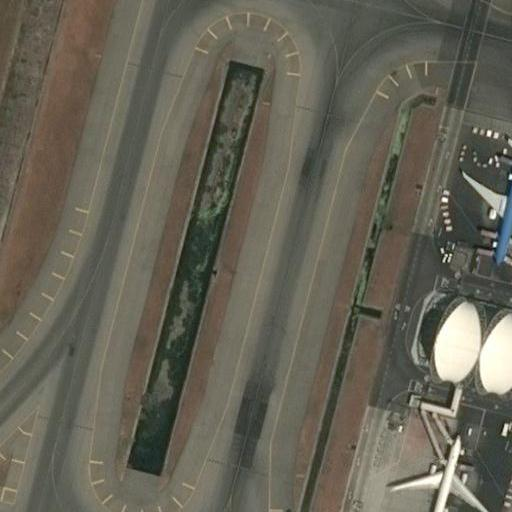Aircraft: (387, 427, 492, 512), (458, 130, 512, 266)
